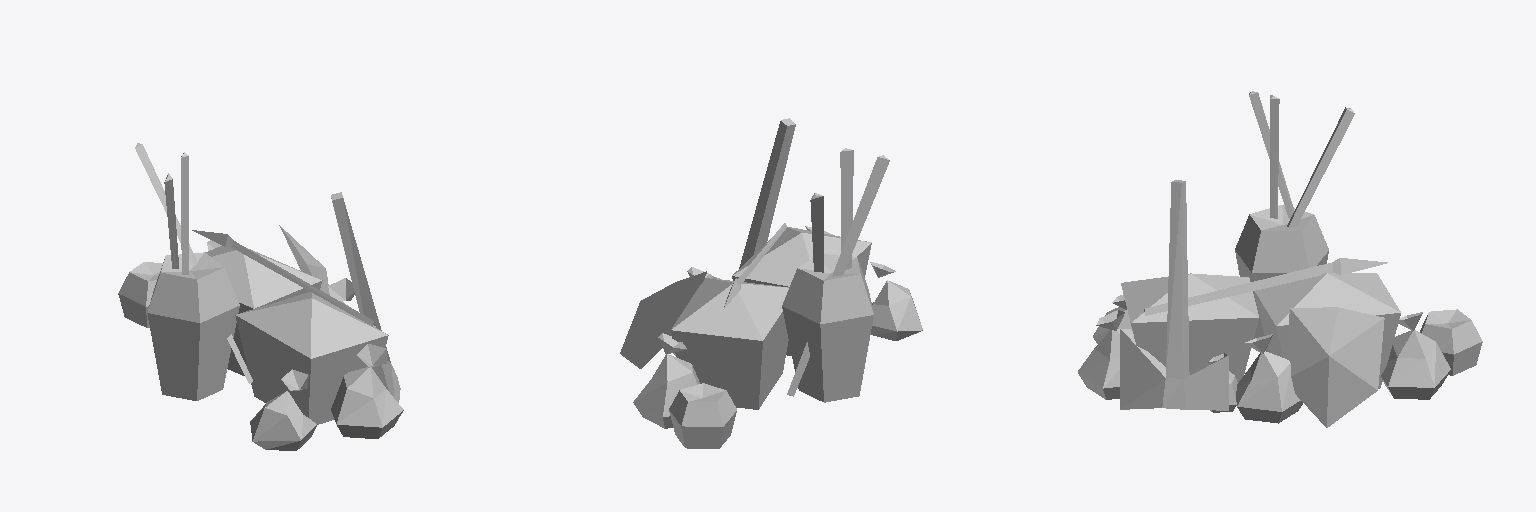
The model's file is weapons02.obj.
The picture shows the model from 3 angles: view 1: azimuth 30°, elevation 25°; view 2: azimuth 150°, elevation 25°; view 3: azimuth 270°, elevation 25°; orthographic projection.
Parts seen in each view (by area): view 1: JunkPile1; view 2: JunkPile1; view 3: JunkPile1.
Part boxes in pixels (left/top/right/bottom): JunkPile1: left=118, top=143, right=403, bottom=450; JunkPile1: left=620, top=118, right=922, bottom=448; JunkPile1: left=1078, top=91, right=1482, bottom=427.
Size of the model in its own units: 1.61 by 1.77 by 2.63.